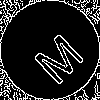M: (25, 25, 87, 87)
